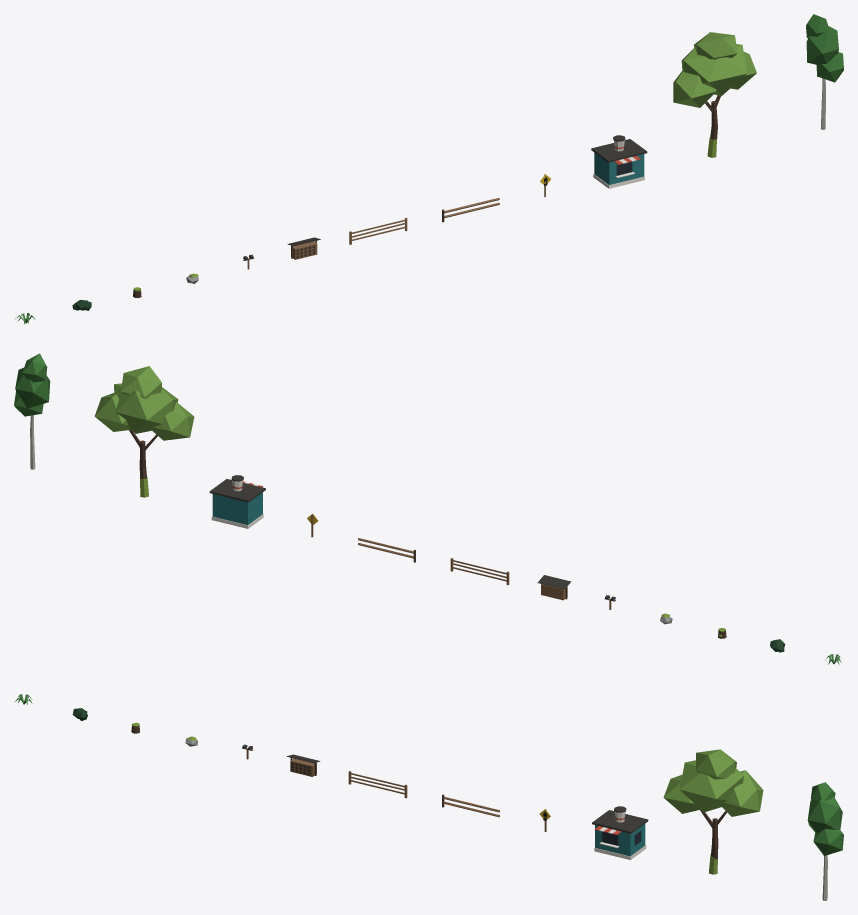
Rendered from pnw-roadside.glb.
3 views of the same model, one above another, from view 1: azimuth 30°, elevation 25°; view 2: azimuth 150°, elevation 25°; view 3: azimuth 330°, elevation 25° (orthographic).
Parts seen in each view (by area): view 1: pnw_maple_body, pnw_espresso_body, pnw_alder_body; view 2: pnw_maple_body, pnw_espresso_body, pnw_alder_body, pnw_firewood_body; view 3: pnw_maple_body, pnw_espresso_body, pnw_alder_body, pnw_firewood_body, pnw_split_rail_body.
Boxes of the visible parts, left/top/right/bottom form: pnw_maple_body: left=673, top=32, right=756, bottom=157; pnw_espresso_body: left=591, top=135, right=647, bottom=188; pnw_alder_body: left=806, top=14, right=843, bottom=129; pnw_maple_body: left=94, top=366, right=194, bottom=497; pnw_espresso_body: left=209, top=475, right=265, bottom=528; pnw_alder_body: left=14, top=353, right=50, bottom=469; pnw_firewood_body: left=537, top=575, right=571, bottom=600; pnw_maple_body: left=663, top=749, right=763, bottom=874; pnw_espresso_body: left=592, top=806, right=648, bottom=859; pnw_alder_body: left=807, top=782, right=843, bottom=900; pnw_firewood_body: left=287, top=754, right=320, bottom=776; pnw_split_rail_body: left=348, top=771, right=407, bottom=798.
Size of the model in its own units: 89.04 by 12.7 by 5.72.
